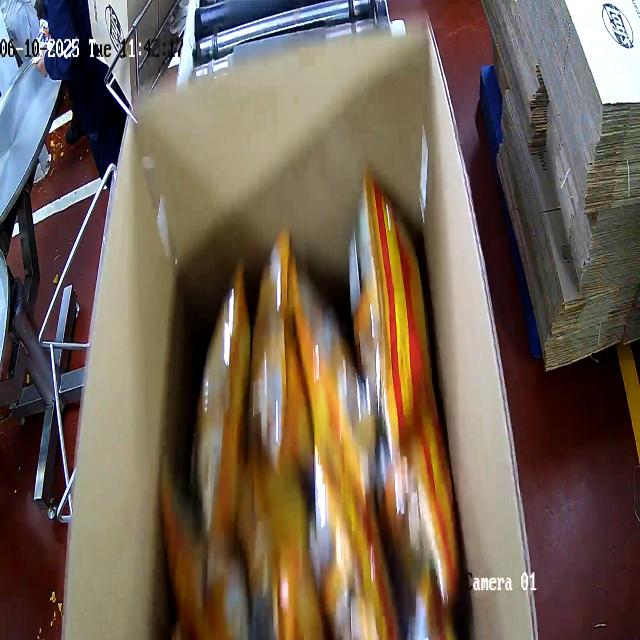FRENCH_CHEESE: (184, 231, 456, 640)
